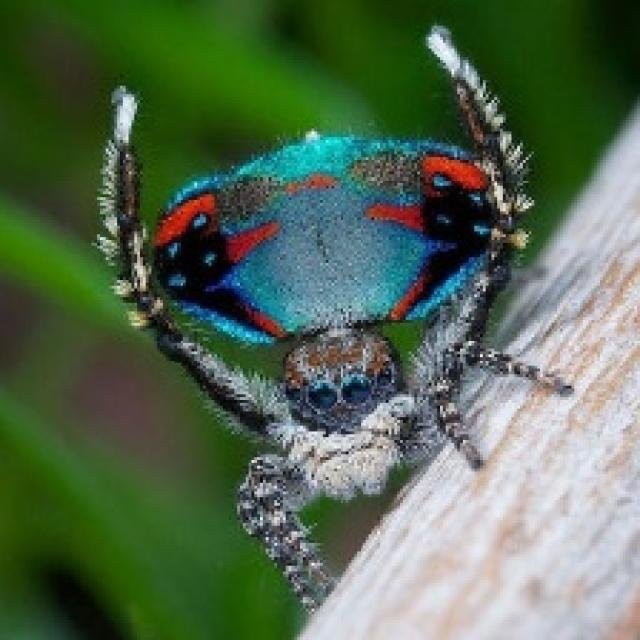Non venomous spider: (72, 86, 575, 446)
